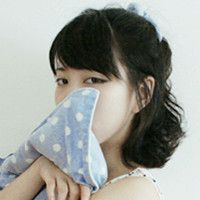face: (54, 43, 125, 146)
